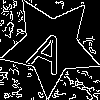A: (26, 21, 74, 76)
